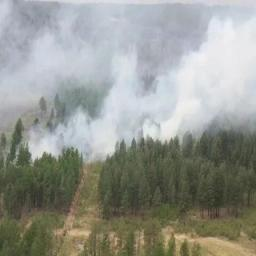Heavy smoke: (0, 0, 255, 162)
